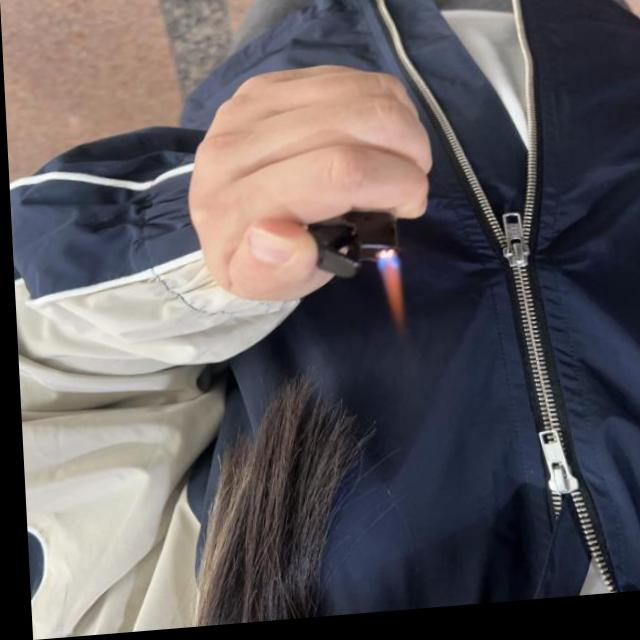Fire: (373, 254, 405, 344)
